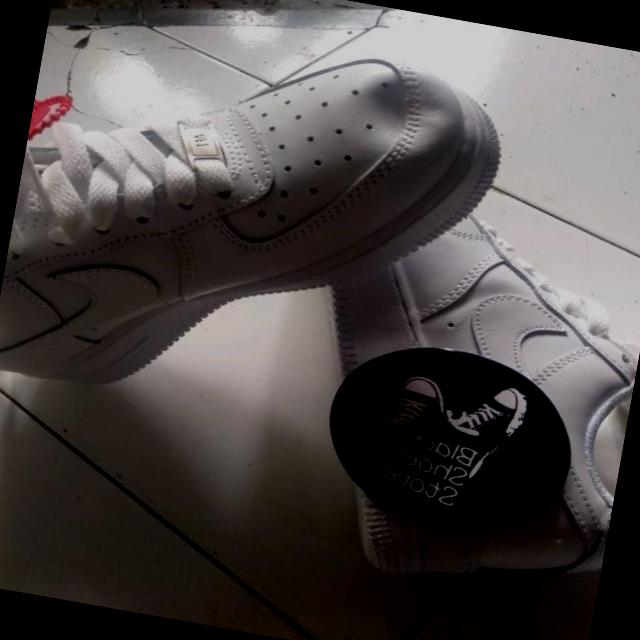nike_fake_airforce: (0, 0, 521, 455)
